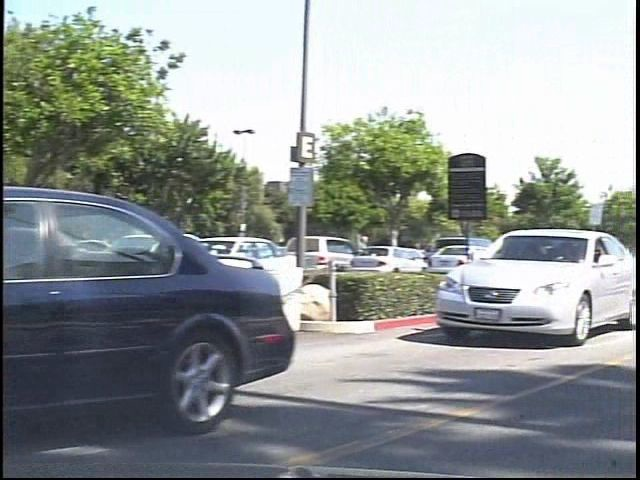person: (362, 230, 389, 281)
